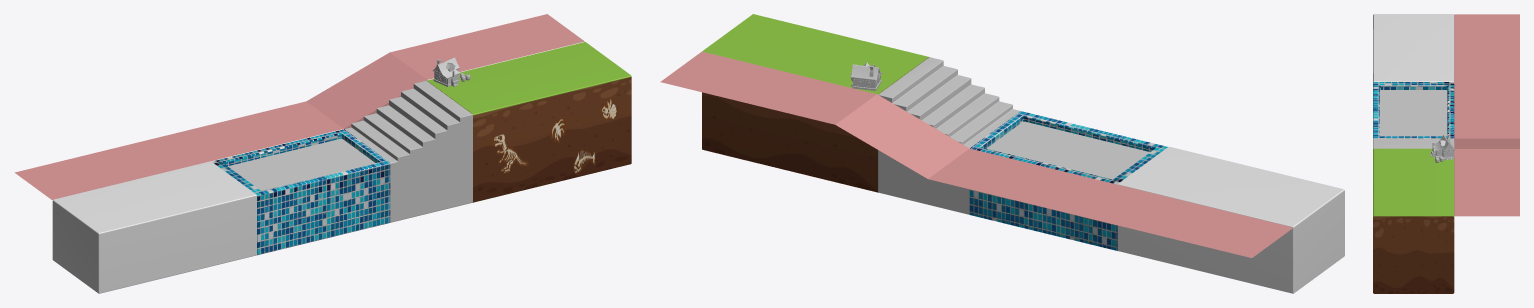
The picture shows the model from 3 angles, left to right: view 1: azimuth 30°, elevation 25°; view 2: azimuth 150°, elevation 25°; view 3: azimuth 270°, elevation 25°; orthographic projection. The views are drawn at different scales.
Visible parts, largest first — view 1: farm, neitral, stairs, pool, Plane002, Plane005, Plane003, Plane004, water, Baker_house; view 2: farm, neitral, stairs, Plane002, Plane005, pool, Plane003, Plane004, water, Baker_house; view 3: farm, neitral, Plane002, Plane005, Plane003, water, pool, stairs, Plane004, Baker_house.
Part boxes in pixels (left/top/right/bottom): farm: left=427, top=42, right=631, bottom=202; neitral: left=52, top=161, right=256, bottom=293; stairs: left=344, top=80, right=472, bottom=222; pool: left=212, top=129, right=390, bottom=255; Plane002: left=14, top=134, right=209, bottom=199; Plane005: left=390, top=14, right=584, bottom=79; Plane003: left=173, top=101, right=343, bottom=161; Plane004: left=306, top=52, right=426, bottom=129; water: left=228, top=138, right=375, bottom=190; Baker_house: left=433, top=57, right=459, bottom=86; farm: left=702, top=14, right=929, bottom=192; neitral: left=1117, top=146, right=1344, bottom=293; stairs: left=878, top=57, right=1020, bottom=214; Plane002: left=1076, top=184, right=1293, bottom=257; Plane005: left=660, top=51, right=876, bottom=124; pool: left=969, top=111, right=1167, bottom=250; Plane003: left=928, top=148, right=1116, bottom=214; Plane004: left=835, top=94, right=969, bottom=178; water: left=986, top=121, right=1149, bottom=179; Baker_house: left=850, top=62, right=882, bottom=90; farm: left=1373, top=148, right=1454, bottom=293; neitral: left=1373, top=14, right=1454, bottom=82; Plane002: left=1454, top=14, right=1519, bottom=81; Plane005: left=1454, top=149, right=1519, bottom=216; Plane003: left=1454, top=81, right=1519, bottom=138; water: left=1380, top=90, right=1447, bottom=136; pool: left=1373, top=82, right=1454, bottom=138; stairs: left=1373, top=138, right=1454, bottom=148; Plane004: left=1454, top=138, right=1519, bottom=148; Baker_house: left=1430, top=134, right=1455, bottom=160.
Size of the model in its own units: 75385 by 14851 by 20623.
